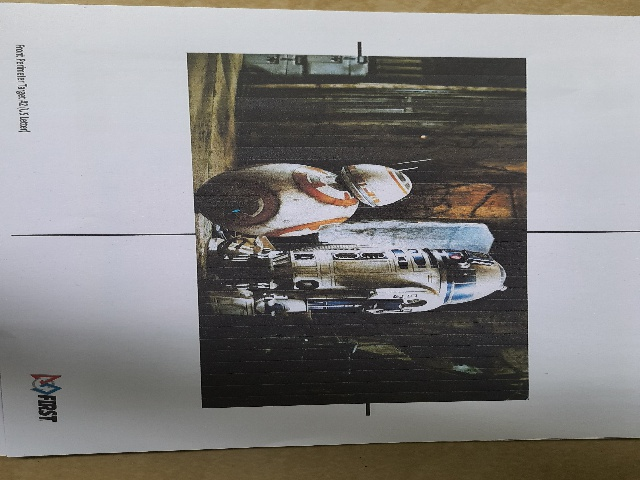fpt2: (65, 24, 611, 432)
